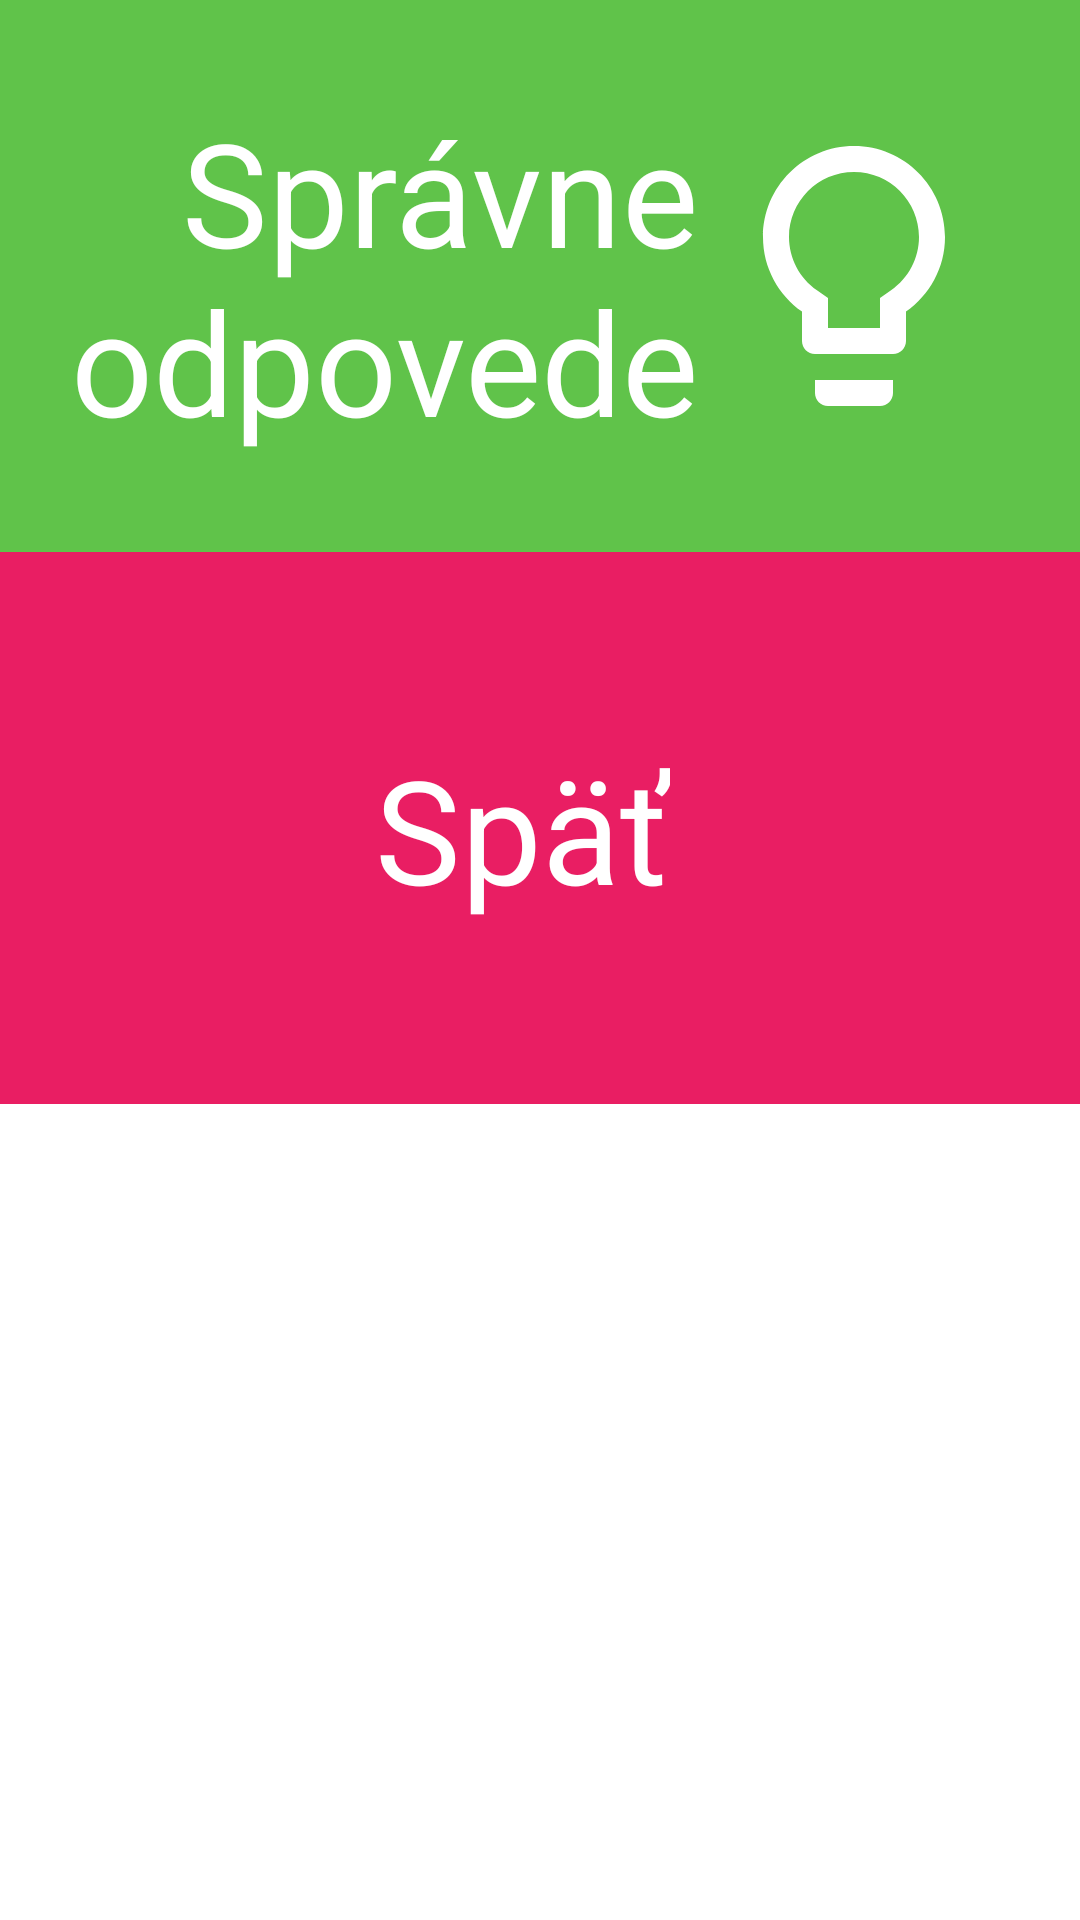

Locate icon controls on the screen. Image size 1080w x 1920h, boxes as (x1, y1, x2, y2).
lightbulb: (763, 146, 945, 406)
